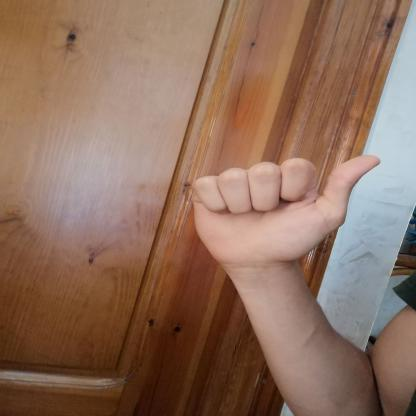DAD: (178, 144, 392, 278)
